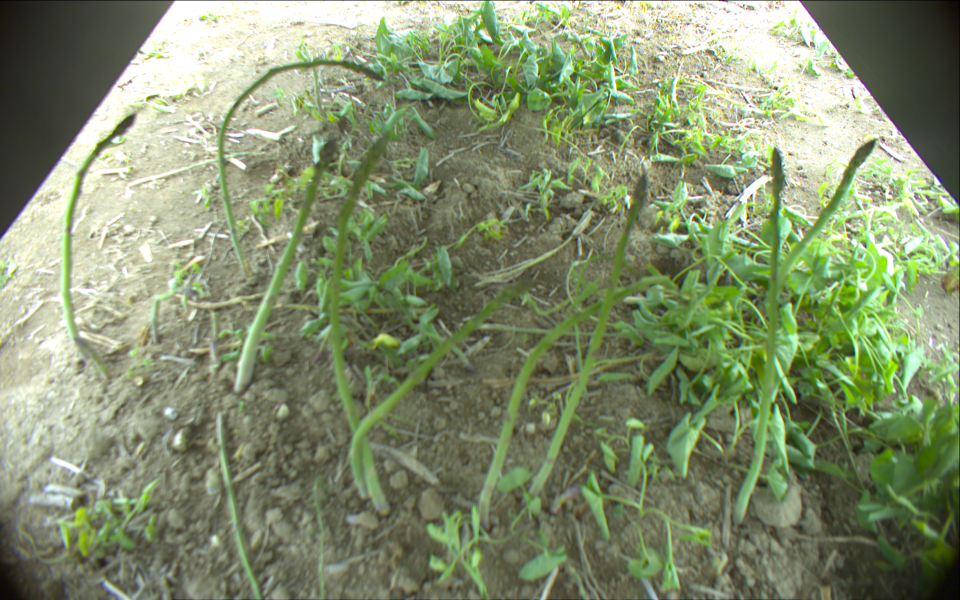aspa: (475, 276, 677, 527), (347, 272, 534, 495), (527, 173, 649, 513), (217, 58, 389, 274), (227, 119, 351, 391), (329, 134, 390, 519), (729, 146, 783, 527), (62, 108, 141, 363), (776, 137, 878, 301), (217, 411, 264, 600), (150, 277, 203, 340), (72, 330, 110, 376), (312, 66, 326, 113), (215, 340, 220, 368)
